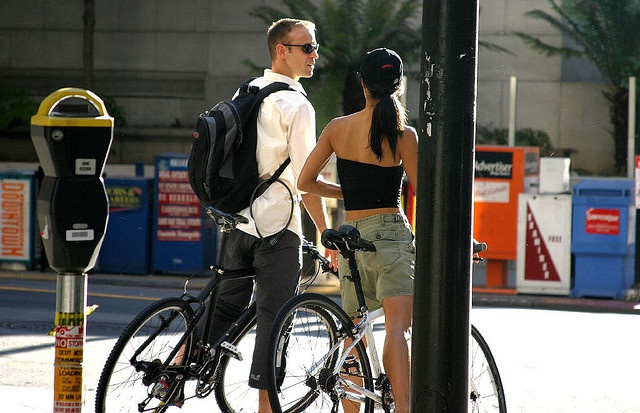non-vehicle: (93, 237, 339, 412), (266, 226, 505, 406)
